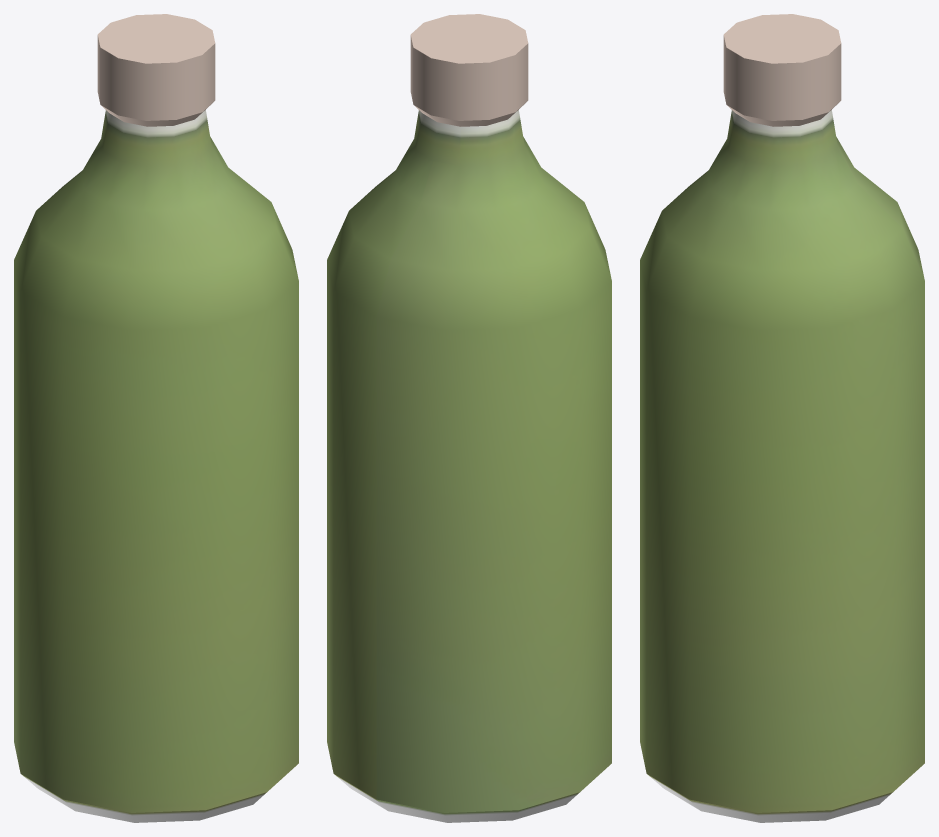
File: SM_drink_soda_01.fbx
3 renders of one model, left to right at view 1: azimuth 30°, elevation 25°; view 2: azimuth 150°, elevation 25°; view 3: azimuth 270°, elevation 25°, orthographic.
Parts seen in each view (by area): view 1: Cylinder007; view 2: Cylinder007; view 3: Cylinder007.
Boxes of the visible parts, x1,y1,x2,y2 form: Cylinder007: [14, 14, 298, 822]; Cylinder007: [327, 14, 611, 822]; Cylinder007: [640, 14, 924, 822].
Size of the model in its own units: 9.03 by 25.6 by 9.03.
